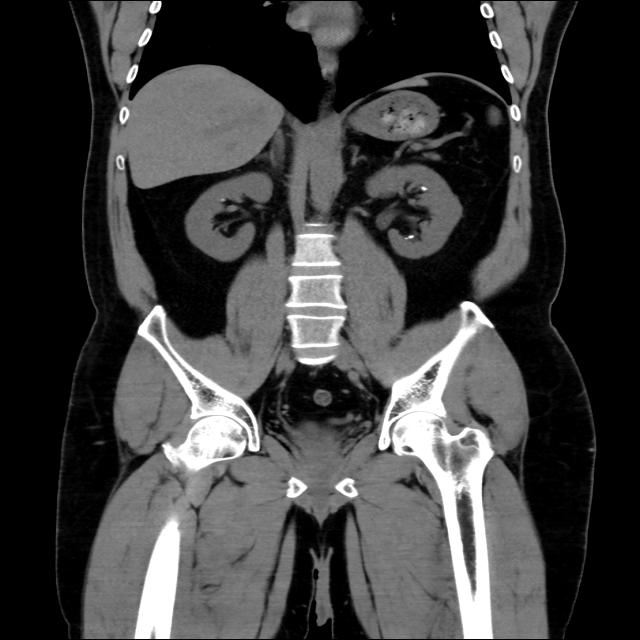kidneystone: (406, 230, 421, 241), (419, 181, 428, 191)
